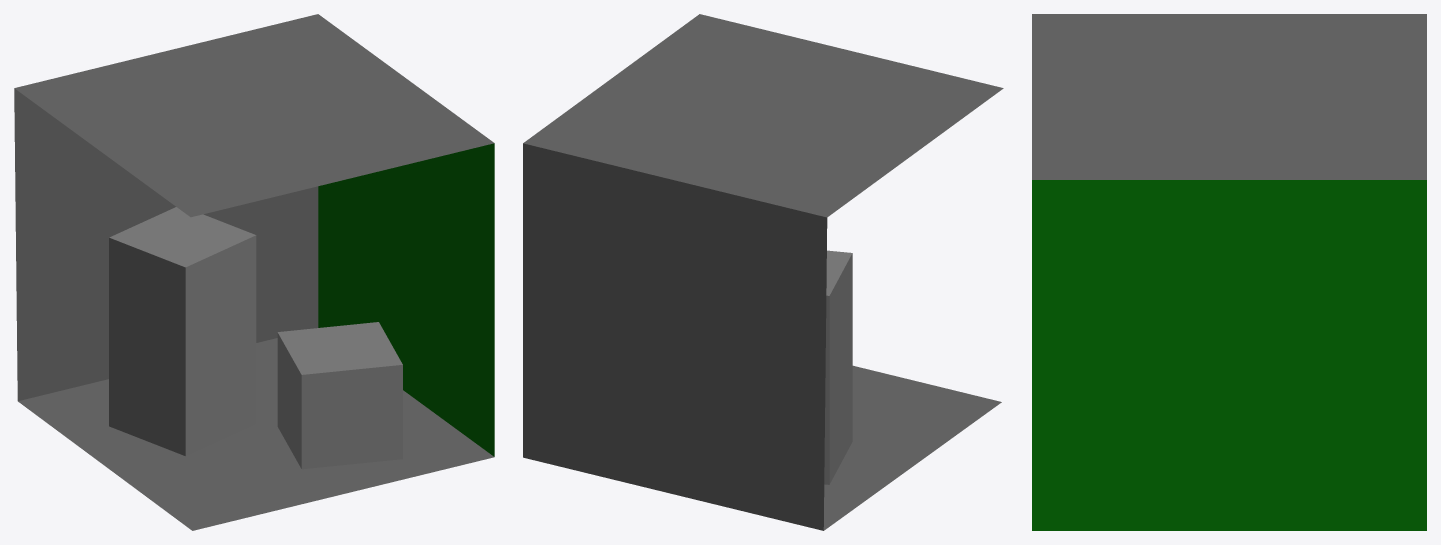
File: CornellBox.obj
3 views of the same model, side by side, from view 1: azimuth 30°, elevation 25°; view 2: azimuth 150°, elevation 25°; view 3: azimuth 270°, elevation 25° (orthographic). The views are drawn at different scales.
Parts seen in each view (by area): view 1: cornell_box, large_box, small_box; view 2: cornell_box, large_box; view 3: cornell_box.
Boxes of the visible parts, left/top/right/bottom form: cornell_box: left=14, top=14, right=494, bottom=530; large_box: left=109, top=207, right=256, bottom=456; small_box: left=277, top=322, right=402, bottom=469; cornell_box: left=523, top=14, right=1003, bottom=530; large_box: left=824, top=250, right=852, bottom=484; cornell_box: left=1032, top=14, right=1426, bottom=530.
Size of the model in its own units: 556 by 549 by 559.
